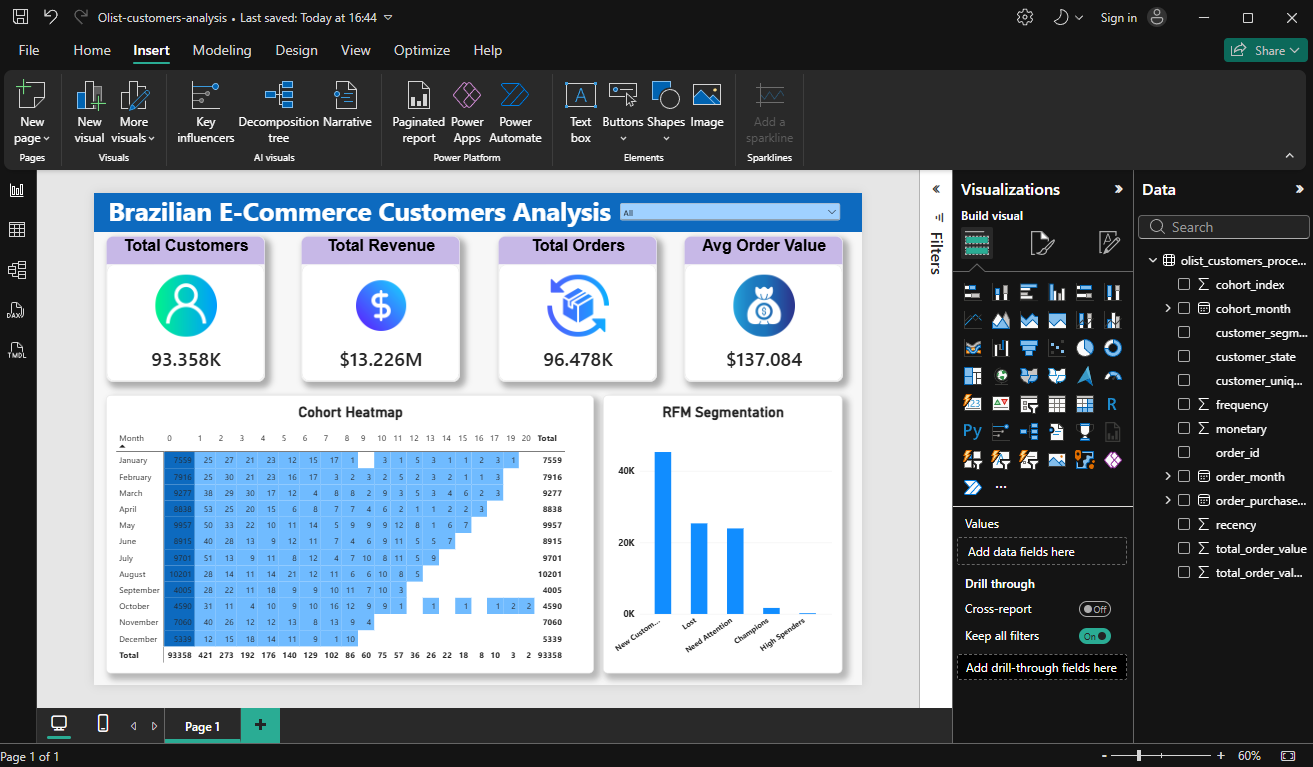

Layout of this report page (visuals, bound fields, positions):
{"tool":"powerbi","page":{"name":"Page 1","canvas":[1280,820],"ordinal":0},"visuals":[{"type":"textbox","box":[0,0,1280,65],"z":0},{"type":"cardVisual","title":"Total Customers","fields":{"Data":["Count(olist_customers_processed_data.customer_unique_id)"]},"box":[20.8,71.4,265,243],"z":1000},{"type":"cardVisual","title":"Total Orders","fields":{"Data":["CountNonNull(olist_customers_processed_data.order_id)"]},"box":[673.6,71.4,265,243],"z":2000},{"type":"cardVisual","title":"Total Revenue","fields":{"Data":["Sum(olist_customers_processed_data.total_order_value)"]},"box":[345,71.4,265,243],"z":3000},{"type":"cardVisual","title":"Avg Order Value","fields":{"Data":["Avg(olist_customers_processed_data.total_order_value)"]},"box":[982.9,71.4,265,243],"z":4000},{"type":"pivotTable","title":"Cohort Heatmap","fields":{"Rows":["olist_customers_processed_data.cohort_month.Variation.Date Hierarchy.Month"],"Columns":["olist_customers_processed_data.cohort_index"],"Values":["Count(olist_customers_processed_data.customer_unique_id)"]},"box":[20.8,336.1,813.4,463.9],"z":5000},{"type":"clusteredColumnChart","title":"RFM Segmentation","fields":{"Category":["olist_customers_processed_data.customer_segment"],"Y":["CountNonNull(olist_customers_processed_data.customer_segment)"]},"box":[849.1,336.1,398.5,463.9],"z":6000},{"type":"slicer","fields":{"Values":["olist_customers_processed_data.customer_state"]},"box":[871.7,11.7,376.7,43.3],"z":7000}]}

Visuals, with their boxes on the page's 1280x820 design canvas (x1, y1, x2, y2). These are canvas units, not pixel positions in the 1313x767 screenshot, which may show the page scaled, cropped or inside an application window:
textbox: {"left": 0, "top": 0, "right": 1280, "bottom": 65}
"Total Customers" cardVisual: {"left": 21, "top": 71, "right": 286, "bottom": 314}
"Total Orders" cardVisual: {"left": 674, "top": 71, "right": 939, "bottom": 314}
"Total Revenue" cardVisual: {"left": 345, "top": 71, "right": 610, "bottom": 314}
"Avg Order Value" cardVisual: {"left": 983, "top": 71, "right": 1248, "bottom": 314}
"Cohort Heatmap" pivotTable: {"left": 21, "top": 336, "right": 834, "bottom": 800}
"RFM Segmentation" clusteredColumnChart: {"left": 849, "top": 336, "right": 1248, "bottom": 800}
slicer - olist_customers_processed_data.customer_state: {"left": 872, "top": 12, "right": 1248, "bottom": 55}
